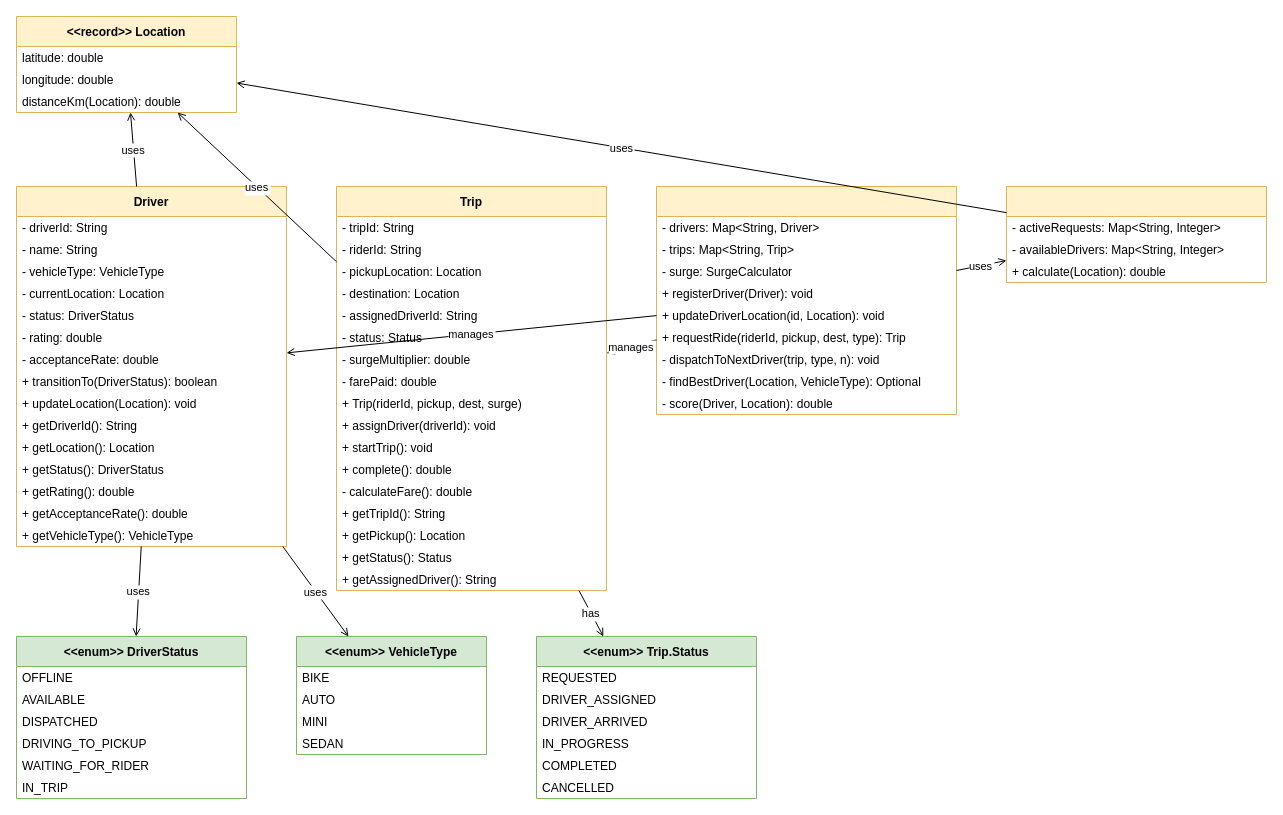
The diagram is 1283 pixels wide and 815 high, and some of its shapes have lost their labels. Each missing label, with the box of its shape:
MatchingEngine: (656, 186, 956, 414)
SurgeCalculator: (1006, 186, 1266, 282)
